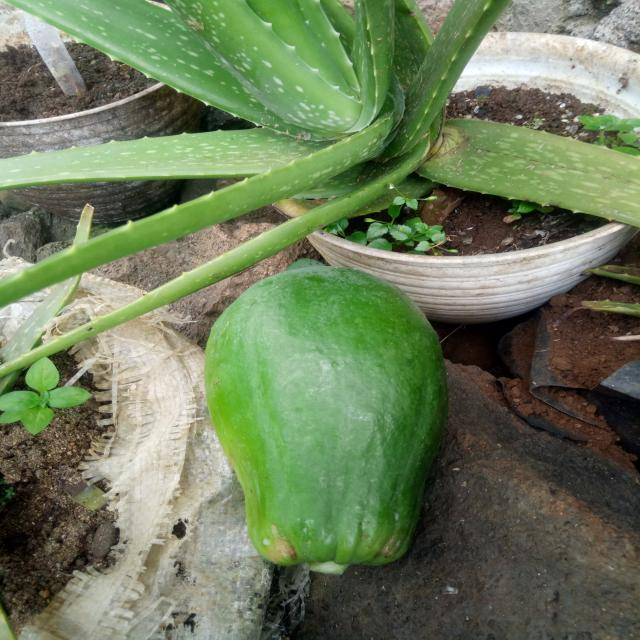Pepaya unrippen: (203, 252, 458, 578)
